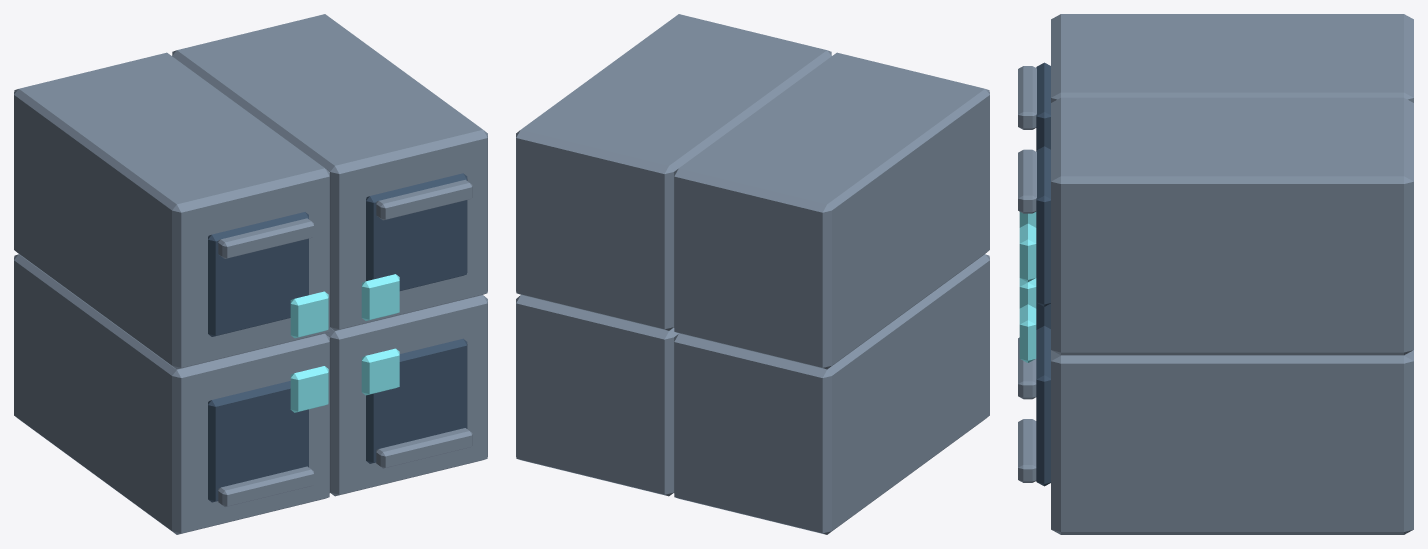
Rendered from BreakableBlock.fbx.
3 views of the same model, side by side, from view 1: azimuth 30°, elevation 25°; view 2: azimuth 150°, elevation 25°; view 3: azimuth 270°, elevation 25° (orthographic). The views are drawn at different scales.
Parts seen in each view (by area): view 1: Shard3, Shard1, Shard4, Shard2; view 2: Shard3, Shard1, Shard4, Shard2; view 3: Shard4, Shard2, Shard3, Shard1.
Boxes of the visible parts, left/top/right/bottom form: Shard3: left=14, top=52, right=329, bottom=369; Shard1: left=14, top=254, right=329, bottom=534; Shard4: left=172, top=14, right=487, bottom=330; Shard2: left=325, top=295, right=487, bottom=496; Shard3: left=674, top=52, right=989, bottom=369; Shard1: left=674, top=254, right=989, bottom=534; Shard4: left=516, top=14, right=831, bottom=330; Shard2: left=516, top=295, right=678, bottom=496; Shard4: left=1018, top=97, right=1413, bottom=355; Shard2: left=1018, top=304, right=1413, bottom=534; Shard3: left=1018, top=14, right=1413, bottom=227; Shard1: left=1018, top=278, right=1050, bottom=399.
Size of the model in its own units: 1 by 1 by 1.
